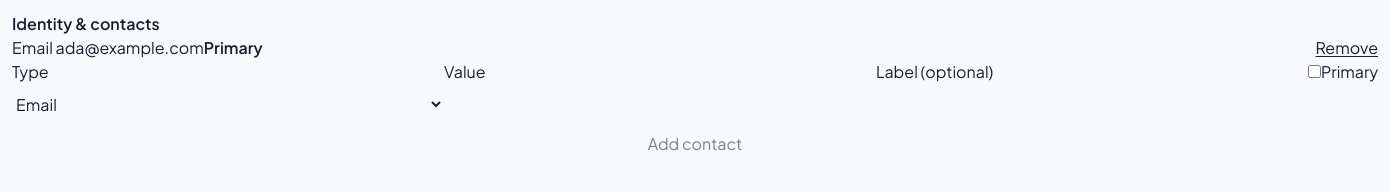
CustomerIdentityPanel › renders the CustomerMustHaveContactException message inline when removing the last contact
This screenshot has width=1390, height=192.
Click the button "Remove": x=1347, y=48 [1316,36,1378,60]
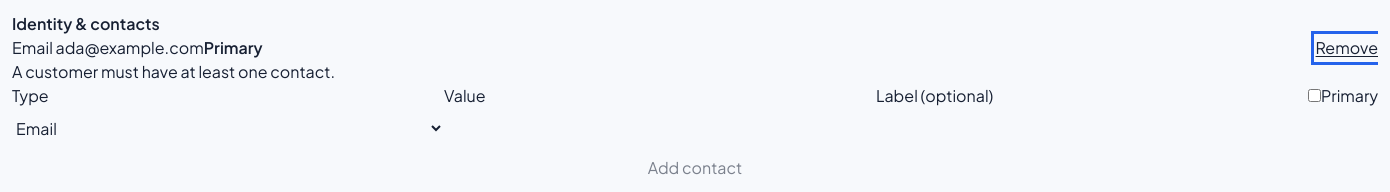
expect the text "A customer must have at least one contact." is shown: met, box [12,61,335,82]
